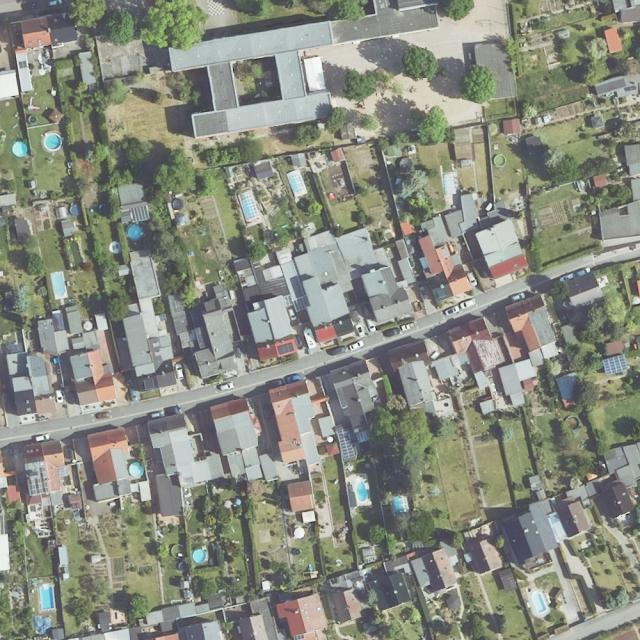PV: (336, 427, 356, 461), (29, 466, 49, 495), (602, 356, 629, 375), (293, 634, 304, 640)
ST: (277, 342, 294, 354)
